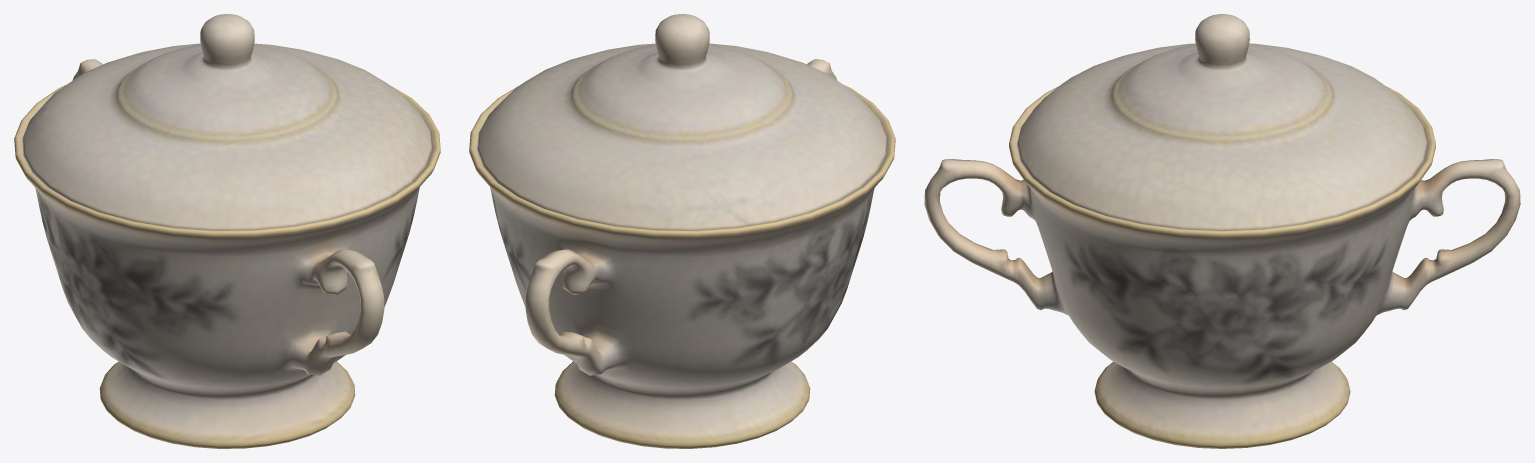
The model's file is ph-thrift-sugar-bowl.glb.
3 views of the same model, side by side, from view 1: azimuth 30°, elevation 25°; view 2: azimuth 150°, elevation 25°; view 3: azimuth 270°, elevation 25° (orthographic).
Visible parts, largest first — view 1: tea_set_01_sugar_cup_01, tea_set_01_sugar_cup_01_lid; view 2: tea_set_01_sugar_cup_01, tea_set_01_sugar_cup_01_lid; view 3: tea_set_01_sugar_cup_01, tea_set_01_sugar_cup_01_lid.
Part boxes in pixels (x1,y1,x2,y2): tea_set_01_sugar_cup_01: (14, 59, 440, 448); tea_set_01_sugar_cup_01_lid: (22, 14, 432, 230); tea_set_01_sugar_cup_01: (469, 59, 895, 448); tea_set_01_sugar_cup_01_lid: (477, 14, 887, 230); tea_set_01_sugar_cup_01: (924, 86, 1520, 448); tea_set_01_sugar_cup_01_lid: (1017, 14, 1427, 230).
Size of the model in its own units: 0.1521 by 0.15 by 0.2122.
Materials: 1 (1 with a texture image).
